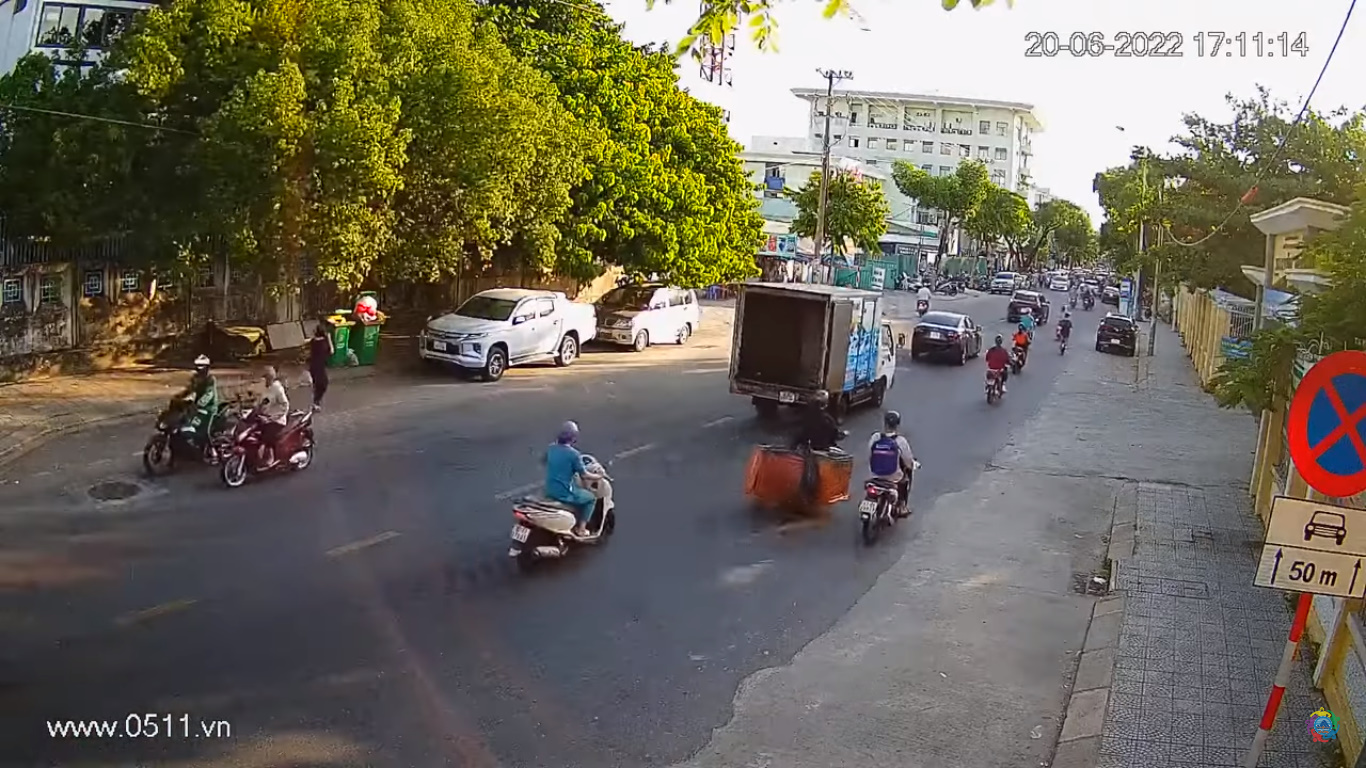car: (910, 310, 980, 368)
truck: (727, 275, 900, 431)
